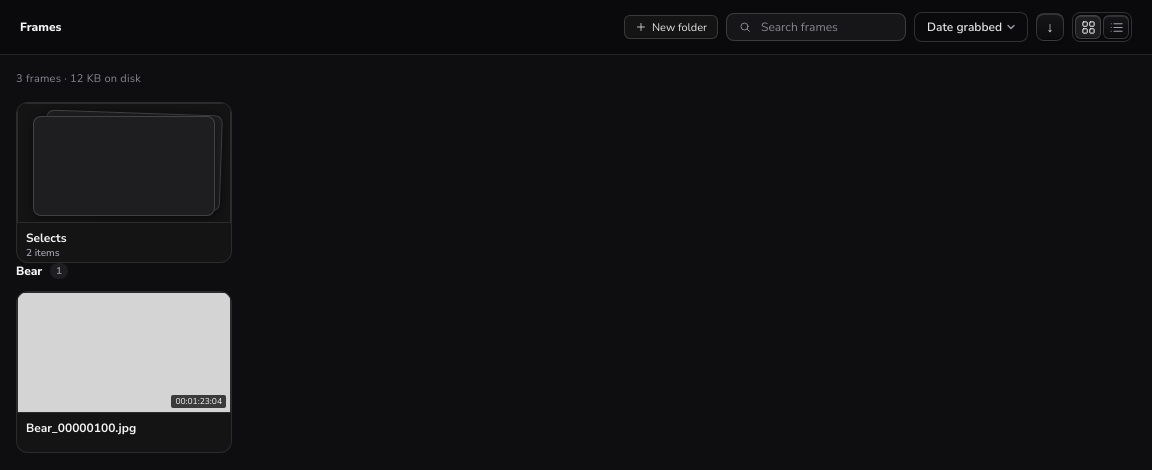
Test: folders as containers › search flattens the whole tree, folders included
The width and height of the screenshot is (1152, 470).
expect the text "Selects" is shown: met, box top-left (26, 230), bottom-right (66, 246)
Type "00000300" into the field labelled "Search frames" at [828, 27], box top-left (759, 18), bottom-right (897, 36)
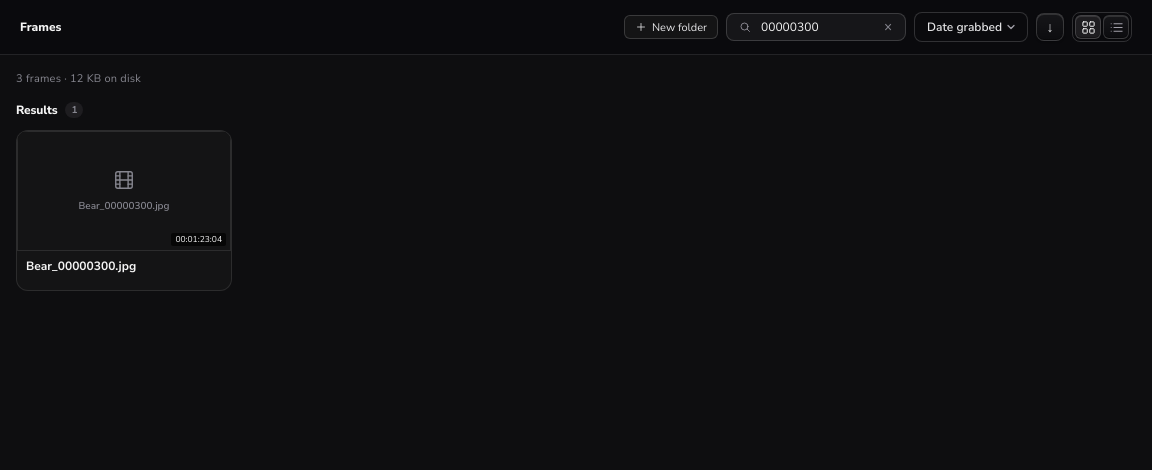
expect the 1st text "Bear_00000300.jpg" is shown: met, box top-left (78, 199), bottom-right (169, 213)
expect the button with class "cp-lib-foldercard" is gone: met
